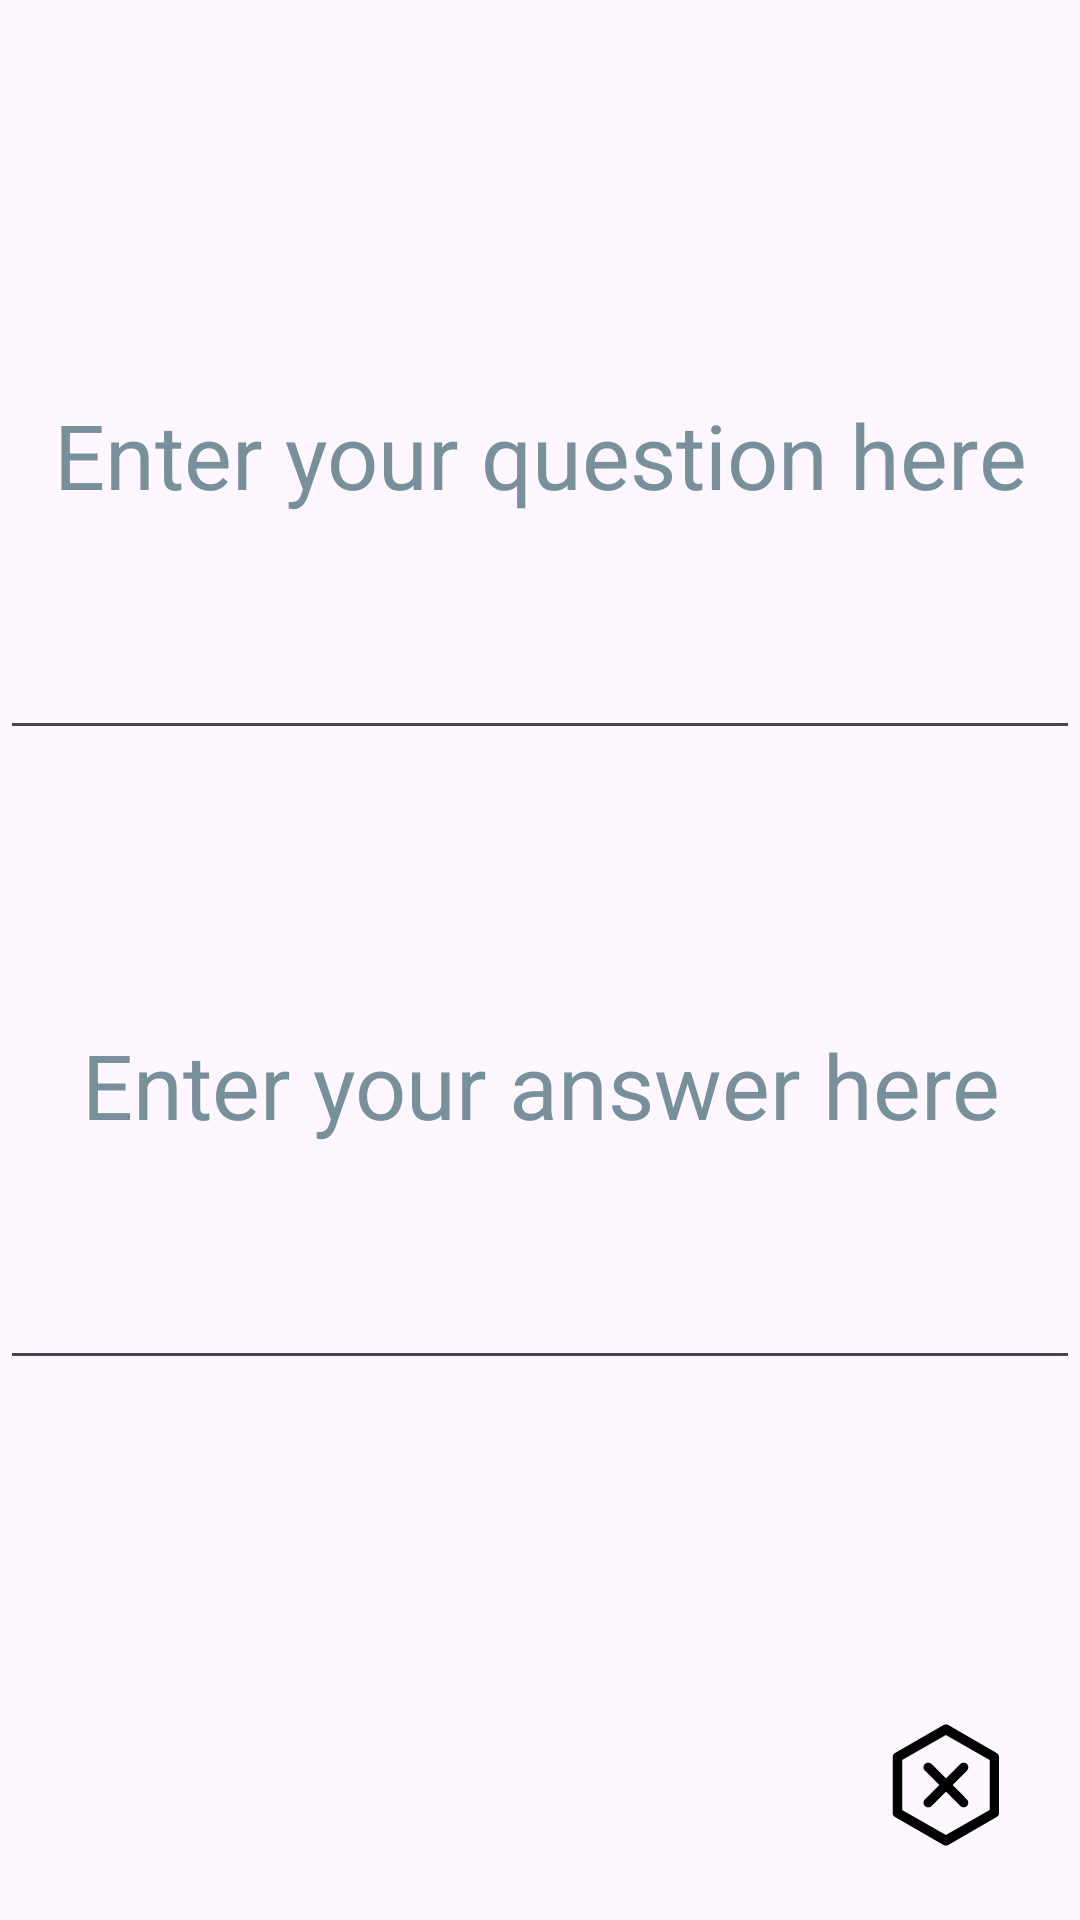

Named icons in this screenshot (1080*1920) and their centers, [x,y]:
hex cross: [945,1785]
